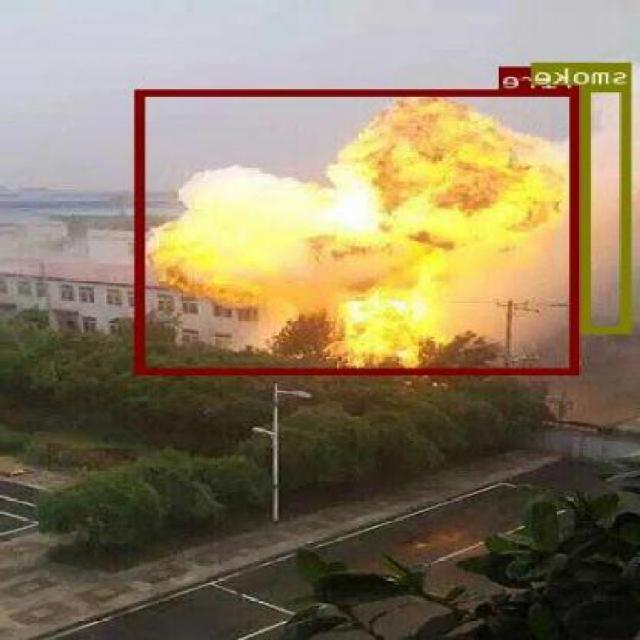Fire: (138, 89, 580, 374)
Smoke: (582, 85, 633, 332)
